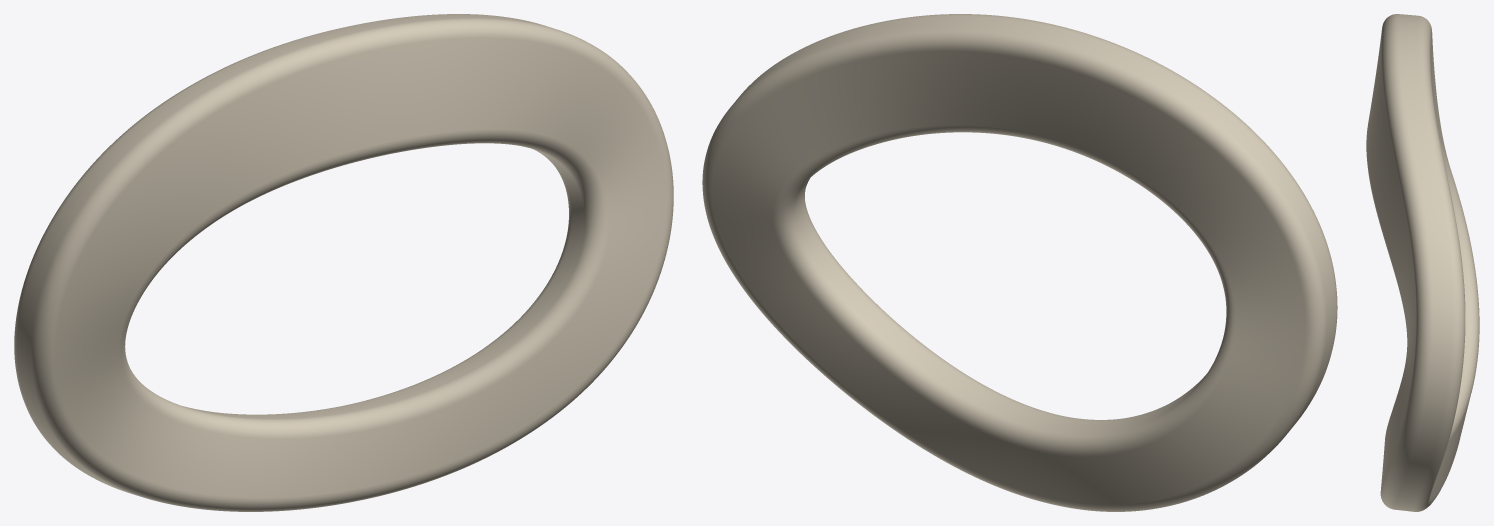
3 renders of one model, left to right at view 1: azimuth 30°, elevation 25°; view 2: azimuth 150°, elevation 25°; view 3: azimuth 270°, elevation 25°, orthographic. The views are drawn at different scales.
Parts seen in each view (by area): view 1: ORISON | continuous closed sweep; view 2: ORISON | continuous closed sweep; view 3: ORISON | continuous closed sweep.
Part boxes in pixels (bbox=[...]): ORISON | continuous closed sweep: bbox=[14, 14, 673, 511]; ORISON | continuous closed sweep: bbox=[702, 14, 1337, 511]; ORISON | continuous closed sweep: bbox=[1366, 14, 1479, 511].
Size of the model in its own units: 0.3912 by 0.276 by 0.0683.
